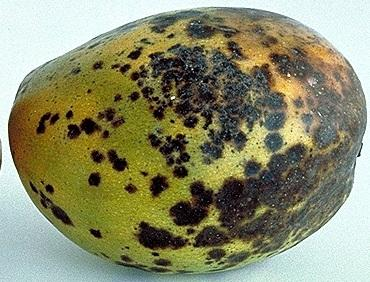mango: (7, 5, 367, 274)
